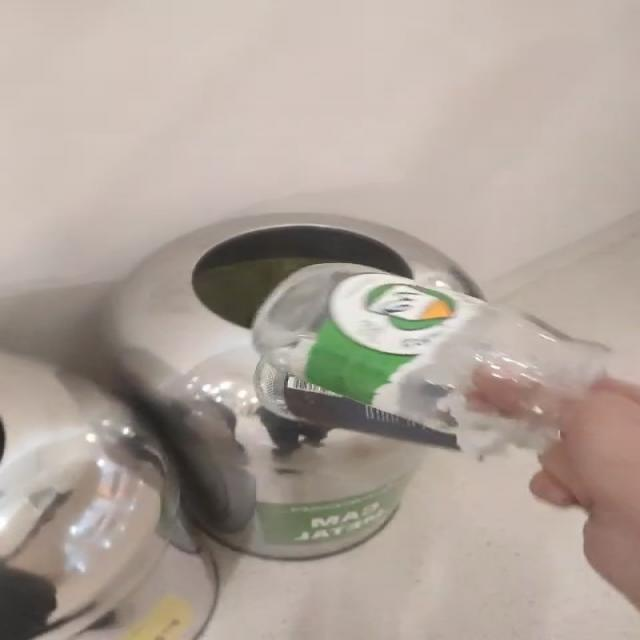glass: (252, 264, 609, 455)
